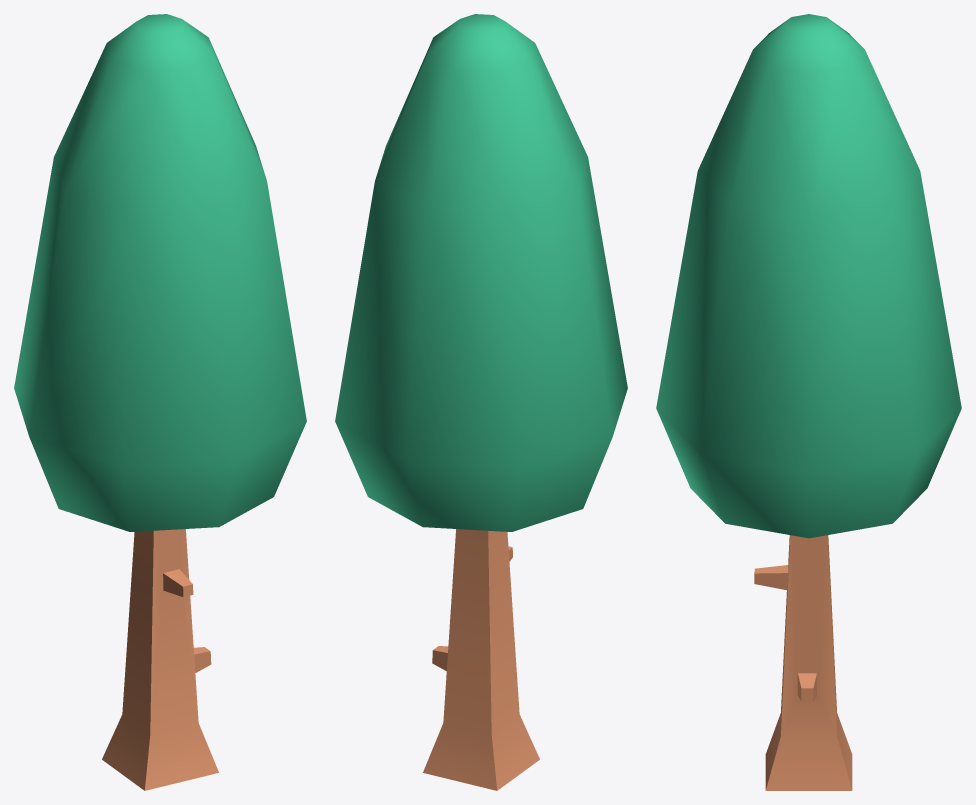
The model's file is treeHighRound.dae.
3 views of the same model, side by side, from view 1: azimuth 30°, elevation 25°; view 2: azimuth 150°, elevation 25°; view 3: azimuth 270°, elevation 25° (orthographic).
Visible parts, largest first — view 1: treeHighRound; view 2: treeHighRound; view 3: treeHighRound.
Boxes of the visible parts, <box> form: treeHighRound: <box>14,14,306,790</box>; treeHighRound: <box>335,14,627,790</box>; treeHighRound: <box>656,14,961,790</box>.
Bounding box in the file's own units: 1.02 × 2.75 × 1.02.
